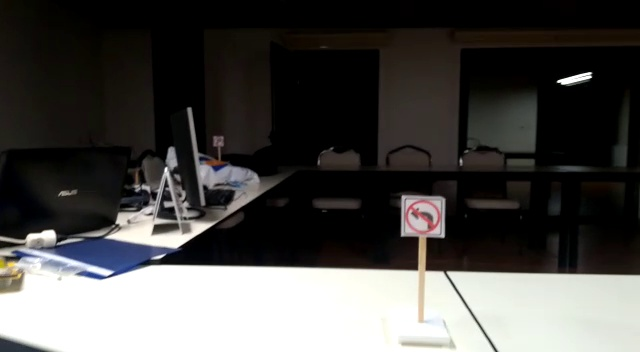sola_donulmez: (399, 196, 443, 237)
